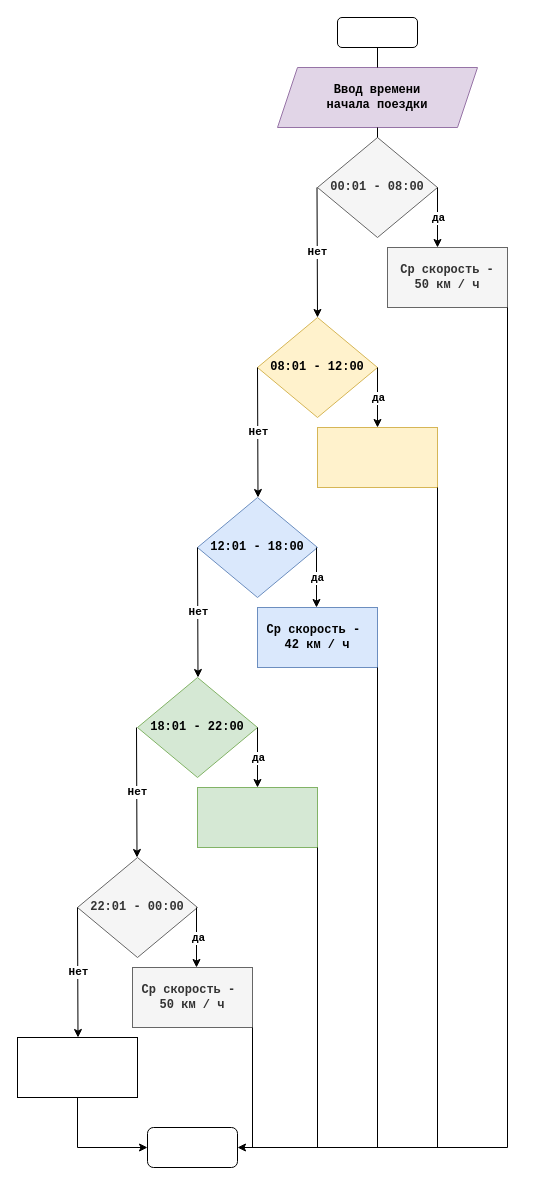
This 533x1185 diagram has some shape labels left out. Each missing label, with the centre of its shape:
"конец" goes at point 192,1147.
"начало" goes at point 377,32.
"Ошибка" goes at point 77,1067.
"Ср скорость - 30 км / ч" goes at point 257,817.
"Ср скорость - 35 км / ч" goes at point 377,457.
